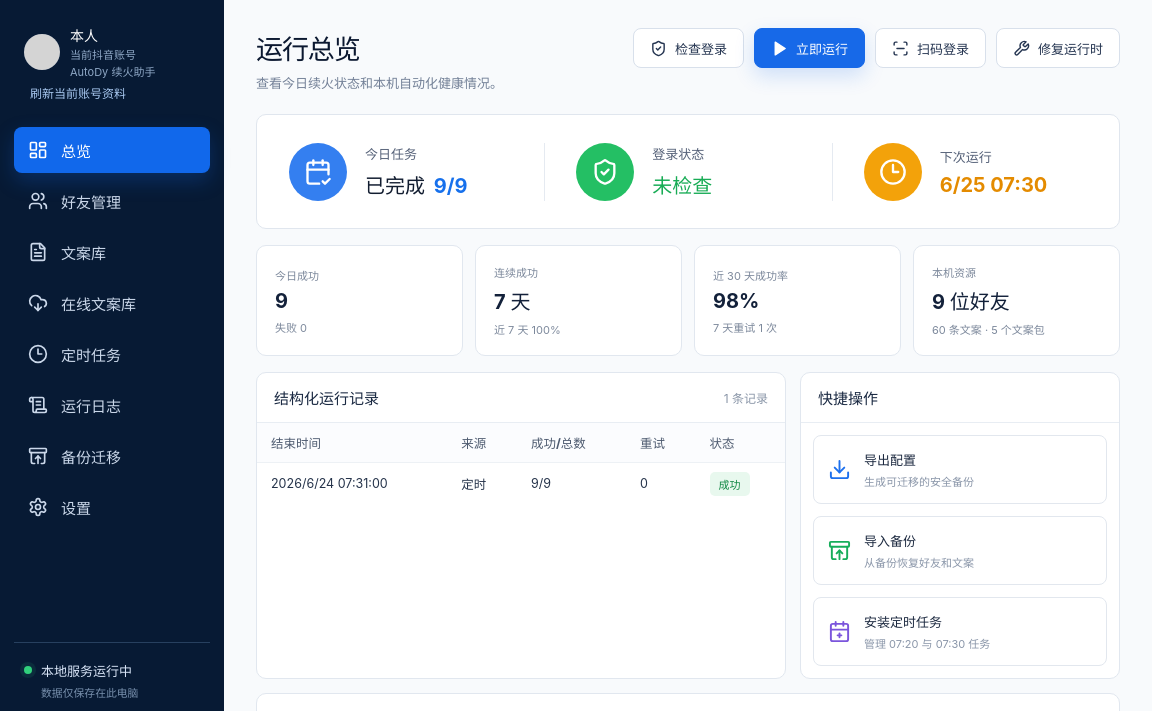
Test: opens the online message library from navigation
The width and height of the screenshot is (1152, 711).
Click the button "在线文案库". click: x=112, y=303
box: [14, 280, 210, 326]
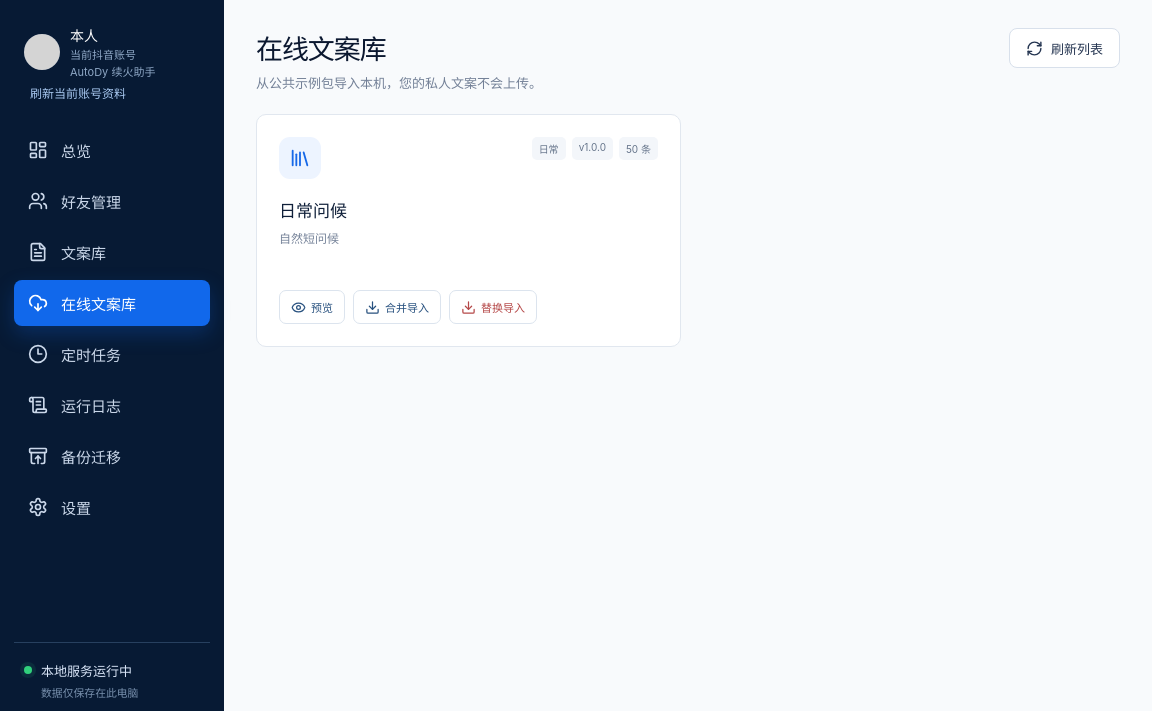
Result: the heading "在线文案库" is shown at [256, 33, 386, 66]
Result: the heading "日常问候" is shown at [279, 201, 347, 221]
